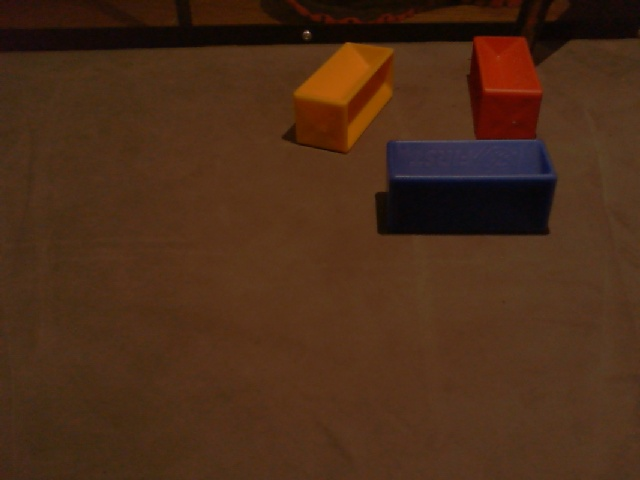BlueSample: (385, 136, 557, 239)
RedSample: (467, 34, 547, 142)
YellowSample: (288, 41, 398, 156)
